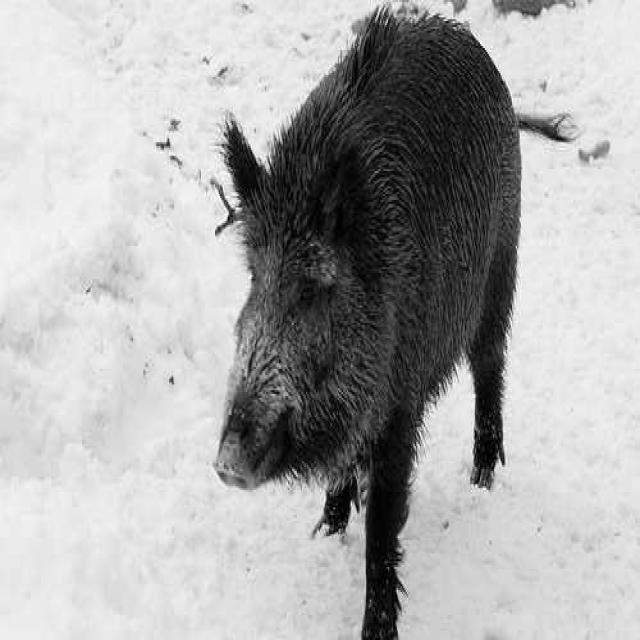boar: (215, 10, 522, 639)
